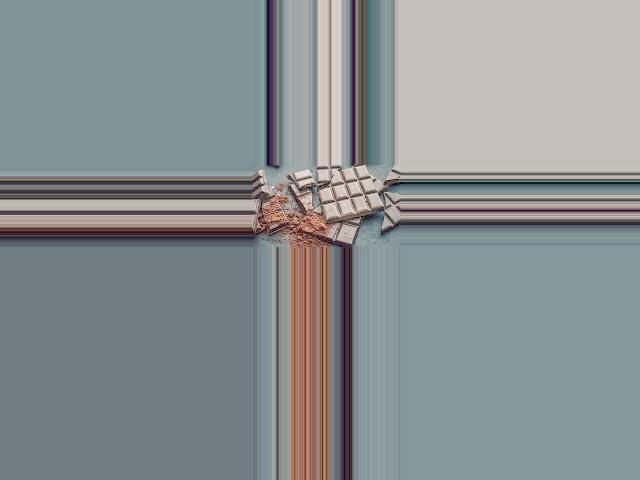chocolate: (319, 165, 385, 221)
